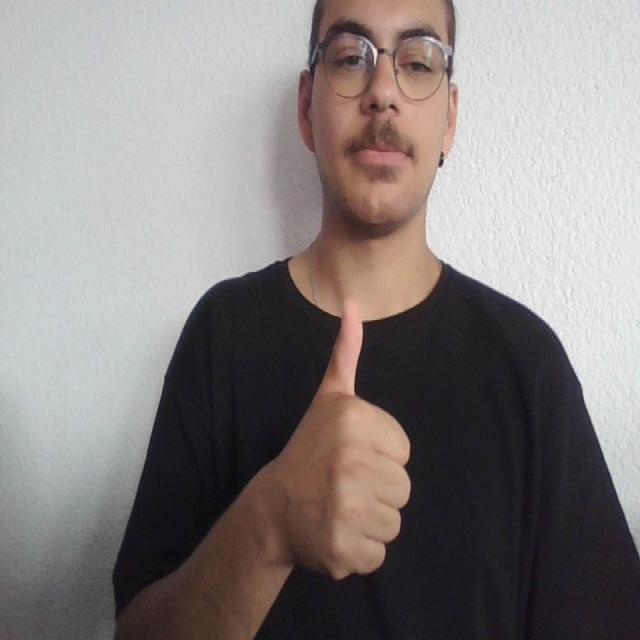Tamam: (257, 296, 418, 597)
